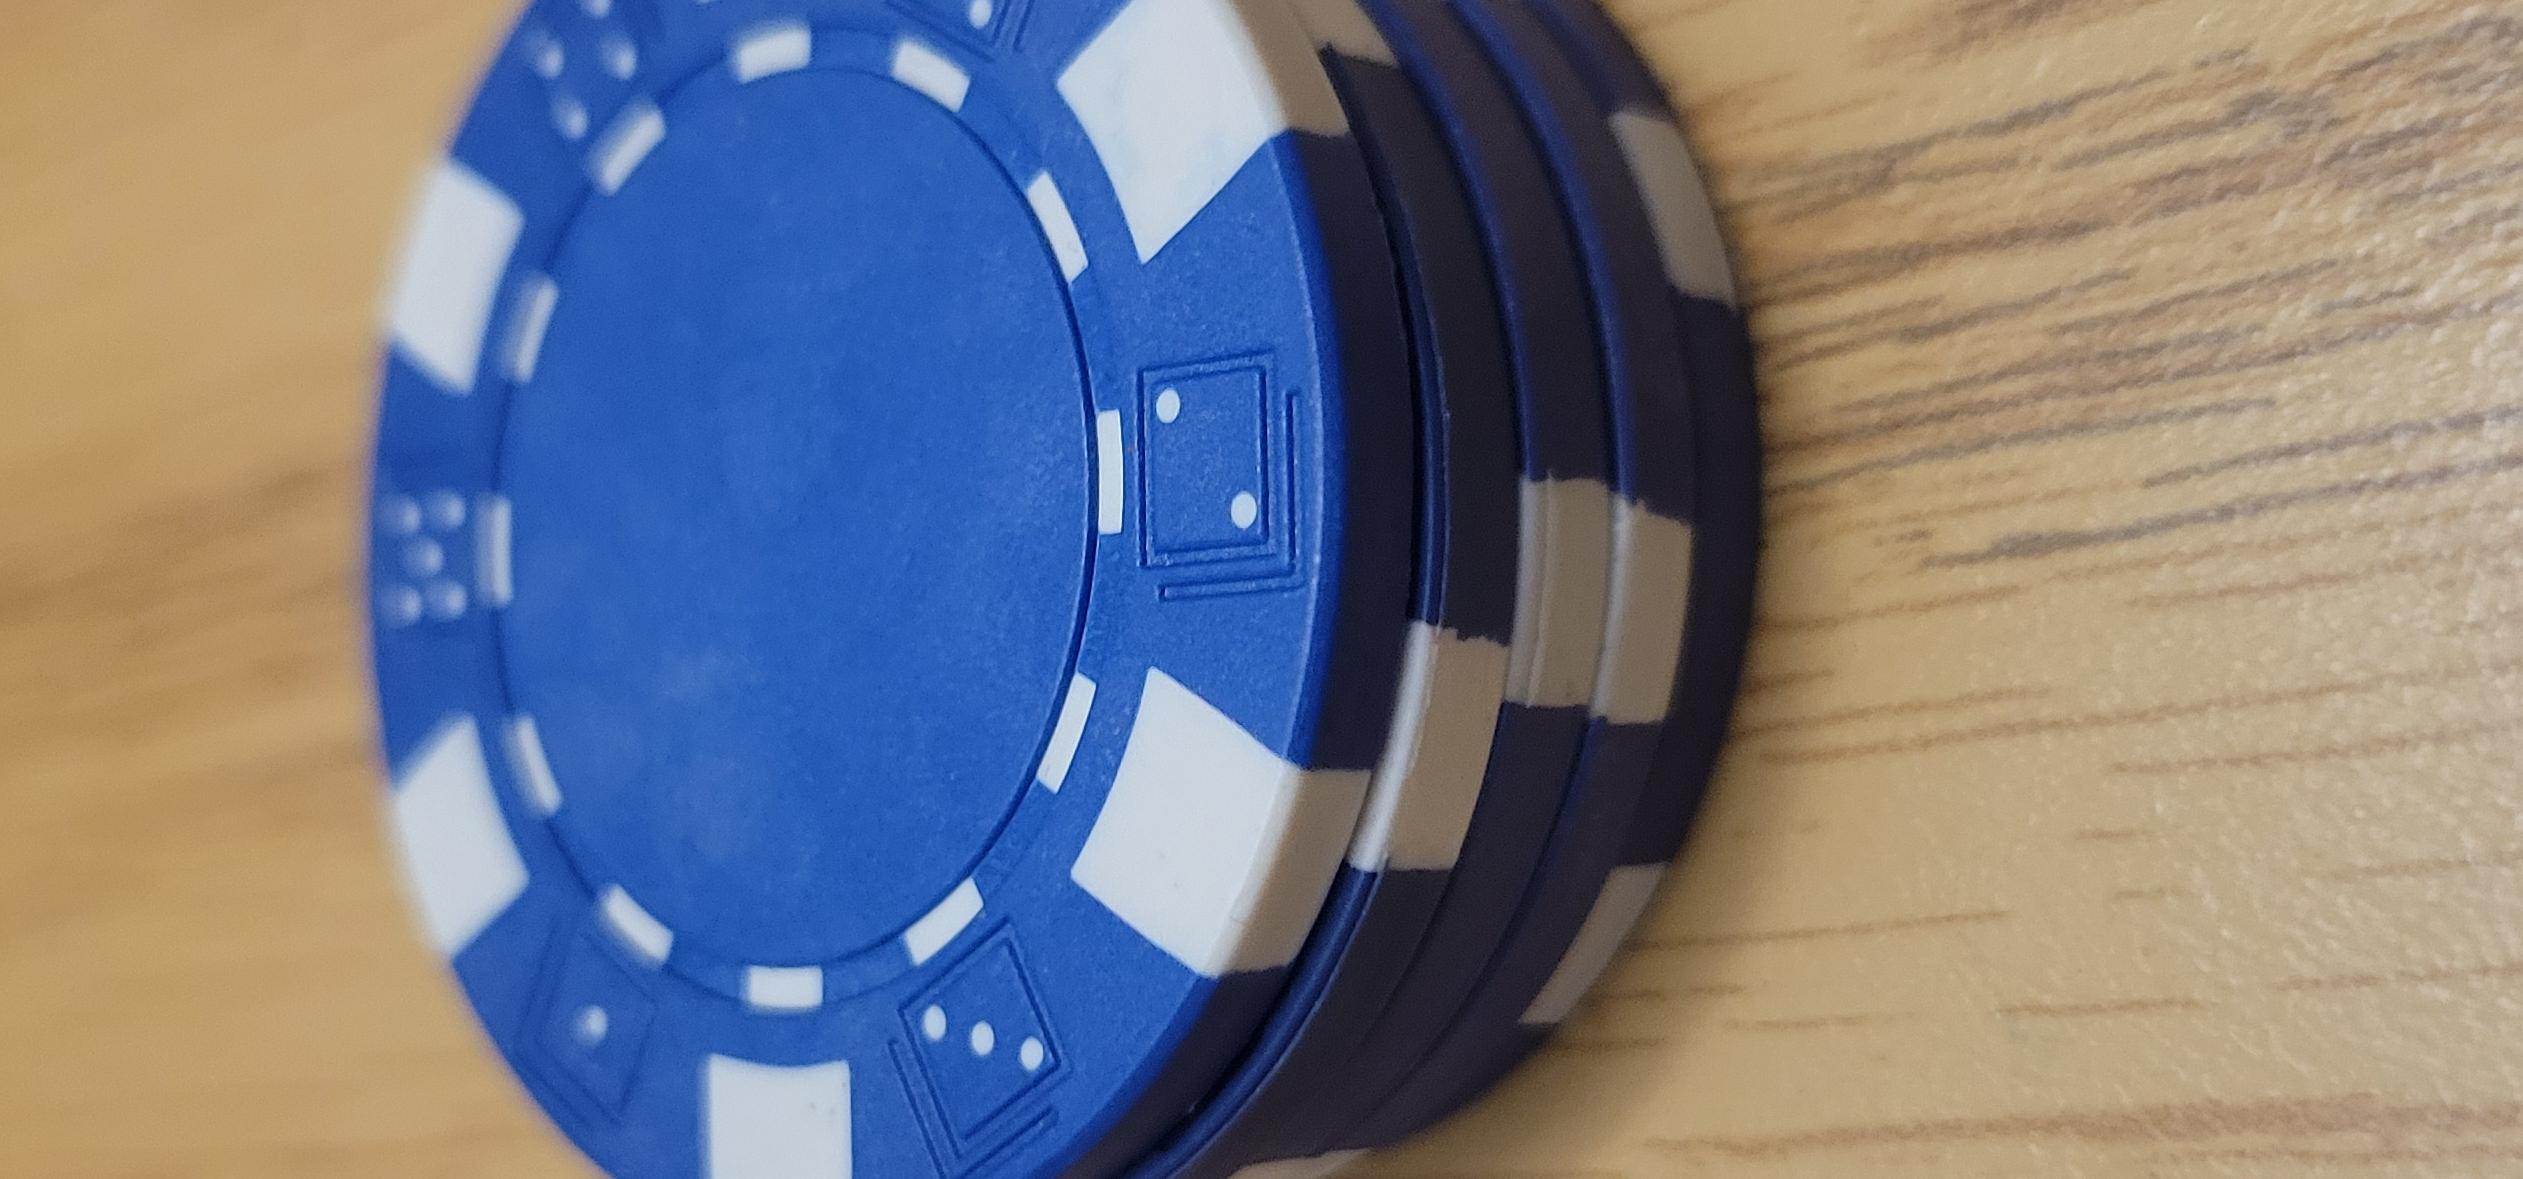Chip: (2, 285, 1670, 1179)
